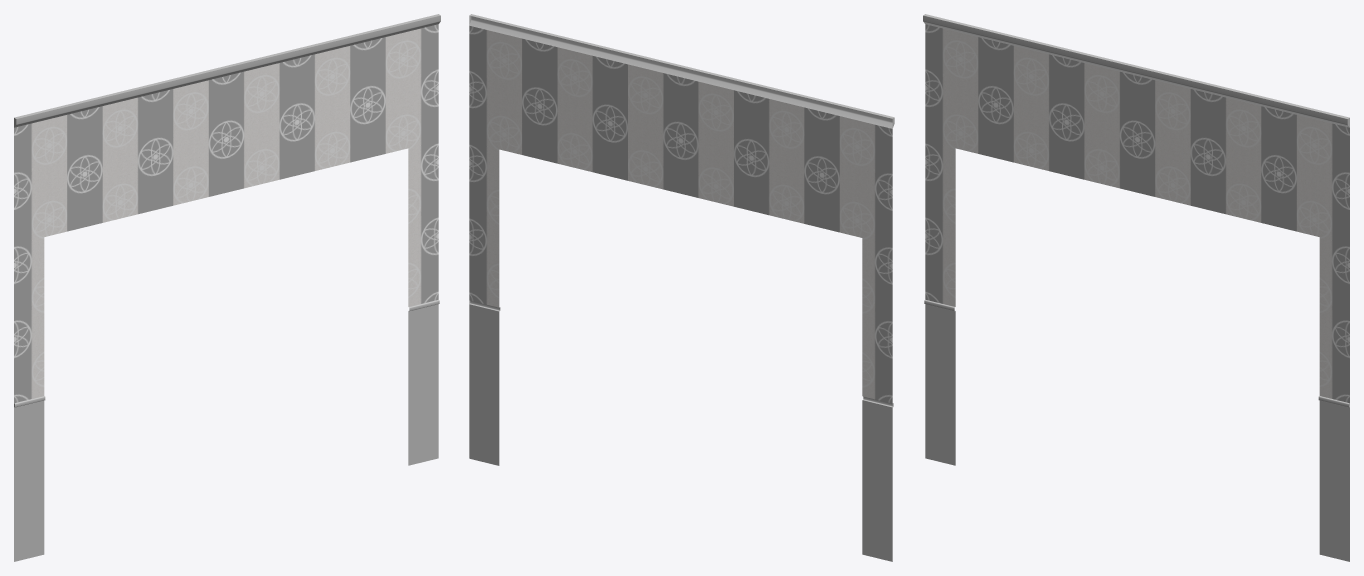
File: WallNiche03_350cmDoor300cm.FBX
3 views of the same model, side by side, from view 1: azimuth 30°, elevation 25°; view 2: azimuth 150°, elevation 25°; view 3: azimuth 330°, elevation 25° (orthographic).
Visible parts, largest first — view 1: WallNiche03_350cmDoor300cm; view 2: WallNiche03_350cmDoor300cm; view 3: WallNiche03_350cmDoor300cm.
Boxes of the visible parts, x1,y1,x2,y2 form: WallNiche03_350cmDoor300cm: (14, 14, 440, 561); WallNiche03_350cmDoor300cm: (469, 14, 894, 561); WallNiche03_350cmDoor300cm: (923, 14, 1349, 561).
Size of the model in its own units: 3500 by 3500 by 30.
